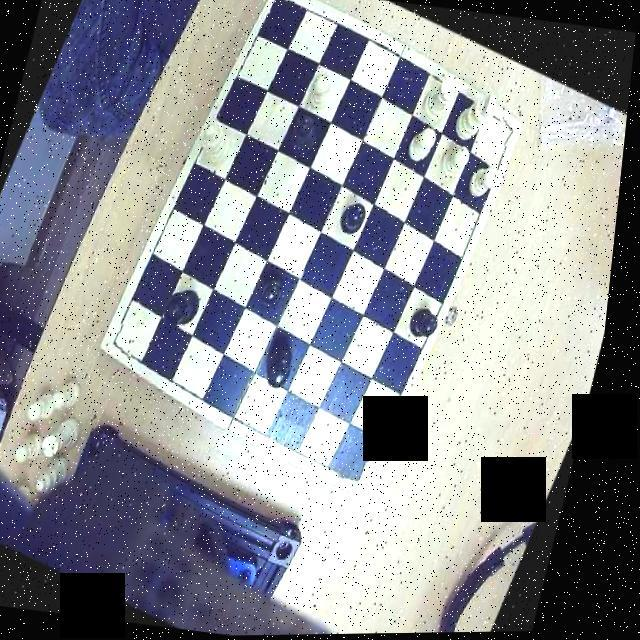chess-table-corners: (341, 452, 386, 496), (107, 320, 152, 363), (492, 112, 529, 152), (261, 0, 299, 23)
